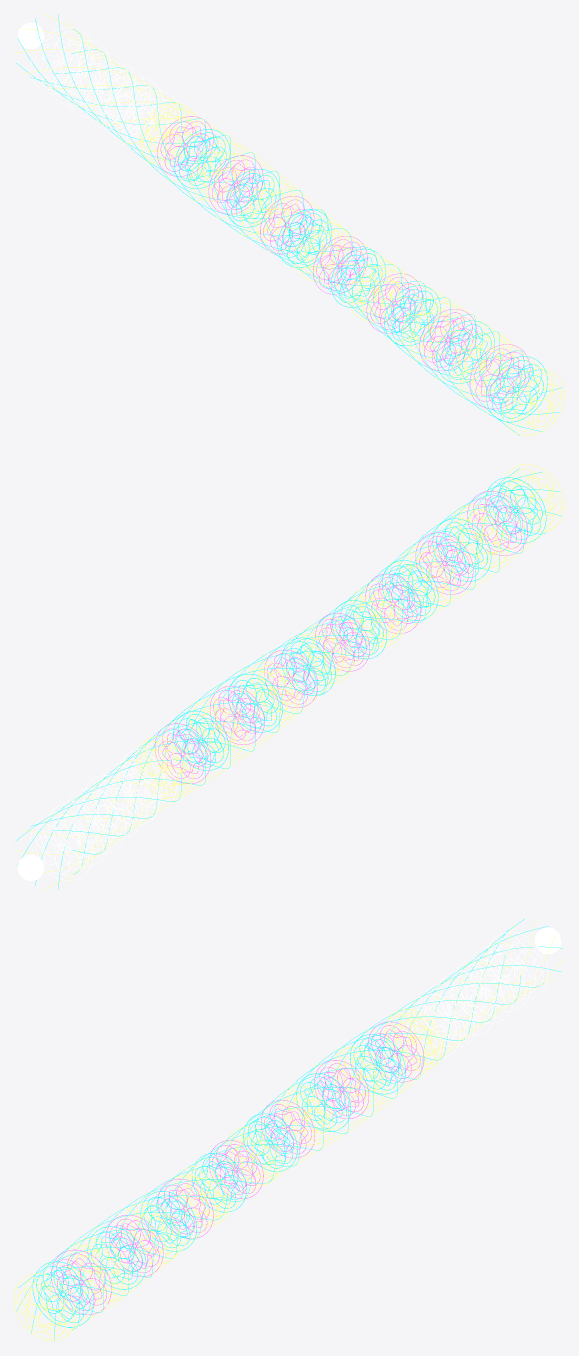
3 views of the same model, one above another, from view 1: azimuth 30°, elevation 25°; view 2: azimuth 150°, elevation 25°; view 3: azimuth 330°, elevation 25° (orthographic).
Parts seen in each view (by area): view 1: Tunnel_Melting_Helix_1, Tunnel_Melting_Helix_2, Tunnel_Mandala_Gate_28, Tunnel_Mandala_Gate_02, Tunnel_Mandala_Gate_26, Tunnel_Mandala_Gate_04, Tunnel_Mandala_Gate_24, Tunnel_Mandala_Gate_06, Tunnel_Mandala_Gate_01, Tunnel_Mandala_Gate_22, Tunnel_Mandala_Gate_20, Tunnel_Mandala_Gate_14 (+19 smaller); view 2: Tunnel_Melting_Helix_2, Tunnel_Melting_Helix_1, Tunnel_Mandala_Gate_28, Tunnel_Mandala_Gate_02, Tunnel_Mandala_Gate_26, Tunnel_Mandala_Gate_04, Tunnel_Mandala_Gate_24, Tunnel_Mandala_Gate_20, Tunnel_Mandala_Gate_06, Tunnel_Mandala_Gate_22, Tunnel_Mandala_Gate_08, Tunnel_Mandala_Gate_16 (+19 smaller); view 3: Tunnel_Melting_Helix_2, Tunnel_Melting_Helix_1, Tunnel_Mandala_Gate_28, Tunnel_Mandala_Gate_02, Tunnel_Mandala_Gate_26, Tunnel_Mandala_Gate_04, Tunnel_Mandala_Gate_01, Tunnel_Mandala_Gate_24, Tunnel_Mandala_Gate_22, Tunnel_Mandala_Gate_08, Tunnel_Mandala_Gate_06, Tunnel_Mandala_Gate_18 (+19 smaller).
Boxes of the visible parts, box(x1,y1,x2,y2) form: Tunnel_Melting_Helix_1: box(14, 14, 563, 435); Tunnel_Melting_Helix_2: box(16, 14, 562, 435); Tunnel_Mandala_Gate_28: box(30, 27, 92, 94); Tunnel_Mandala_Gate_02: box(486, 356, 547, 422); Tunnel_Mandala_Gate_26: box(67, 53, 128, 117); Tunnel_Mandala_Gate_04: box(453, 332, 512, 396); Tunnel_Mandala_Gate_24: box(104, 78, 162, 141); Tunnel_Mandala_Gate_06: box(419, 309, 477, 370); Tunnel_Mandala_Gate_01: box(502, 368, 564, 435); Tunnel_Mandala_Gate_22: box(139, 103, 196, 164); Tunnel_Mandala_Gate_20: box(174, 129, 230, 188); Tunnel_Mandala_Gate_14: box(277, 209, 331, 267); Tunnel_Melting_Helix_2: box(15, 468, 561, 889); Tunnel_Melting_Helix_1: box(14, 468, 563, 889); Tunnel_Mandala_Gate_28: box(30, 813, 92, 880); Tunnel_Mandala_Gate_02: box(485, 477, 546, 543); Tunnel_Mandala_Gate_26: box(65, 788, 125, 853); Tunnel_Mandala_Gate_04: box(450, 504, 509, 568); Tunnel_Mandala_Gate_24: box(100, 762, 159, 825); Tunnel_Mandala_Gate_20: box(173, 710, 228, 770); Tunnel_Mandala_Gate_06: box(415, 532, 473, 594); Tunnel_Mandala_Gate_22: box(136, 736, 193, 797); Tunnel_Mandala_Gate_08: box(382, 560, 438, 620); Tunnel_Mandala_Gate_16: box(246, 662, 300, 720); Tunnel_Melting_Helix_2: box(16, 919, 563, 1341); Tunnel_Melting_Helix_1: box(15, 919, 564, 1340); Tunnel_Mandala_Gate_28: box(486, 932, 548, 999); Tunnel_Mandala_Gate_02: box(32, 1261, 93, 1327); Tunnel_Mandala_Gate_26: box(453, 958, 513, 1023); Tunnel_Mandala_Gate_04: box(69, 1238, 128, 1301); Tunnel_Mandala_Gate_01: box(14, 1273, 76, 1340); Tunnel_Mandala_Gate_24: box(419, 984, 478, 1047); Tunnel_Mandala_Gate_22: box(385, 1009, 442, 1070); Tunnel_Mandala_Gate_08: box(140, 1191, 196, 1251); Tunnel_Mandala_Gate_06: box(105, 1215, 163, 1276); Tunnel_Mandala_Gate_18: box(314, 1060, 369, 1118).
Size of the model in its own units: 6.04 by 6.23 by 83.14.
